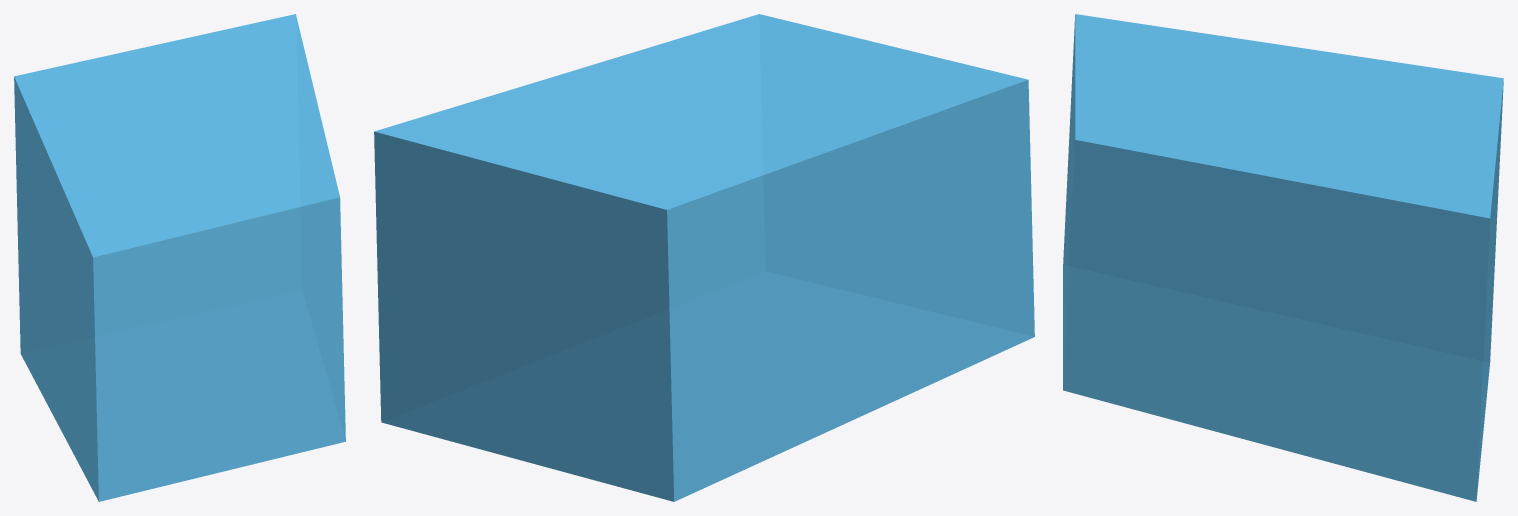
File: Event_421278790_HBrechit_20.fbx
The picture shows the model from 3 angles, left to right: view 1: azimuth 30°, elevation 25°; view 2: azimuth 150°, elevation 25°; view 3: azimuth 270°, elevation 25°; orthographic projection. The views are drawn at different scales.
Visible parts, largest first — view 1: Model; view 2: Model; view 3: Model.
Part boxes in pixels (x1,y1,x2,y2): Model: [14, 14, 345, 501]; Model: [374, 14, 1034, 501]; Model: [1063, 14, 1503, 501].
Bounding box in the file's own units: 0.702 × 0.4555 × 0.6394.
